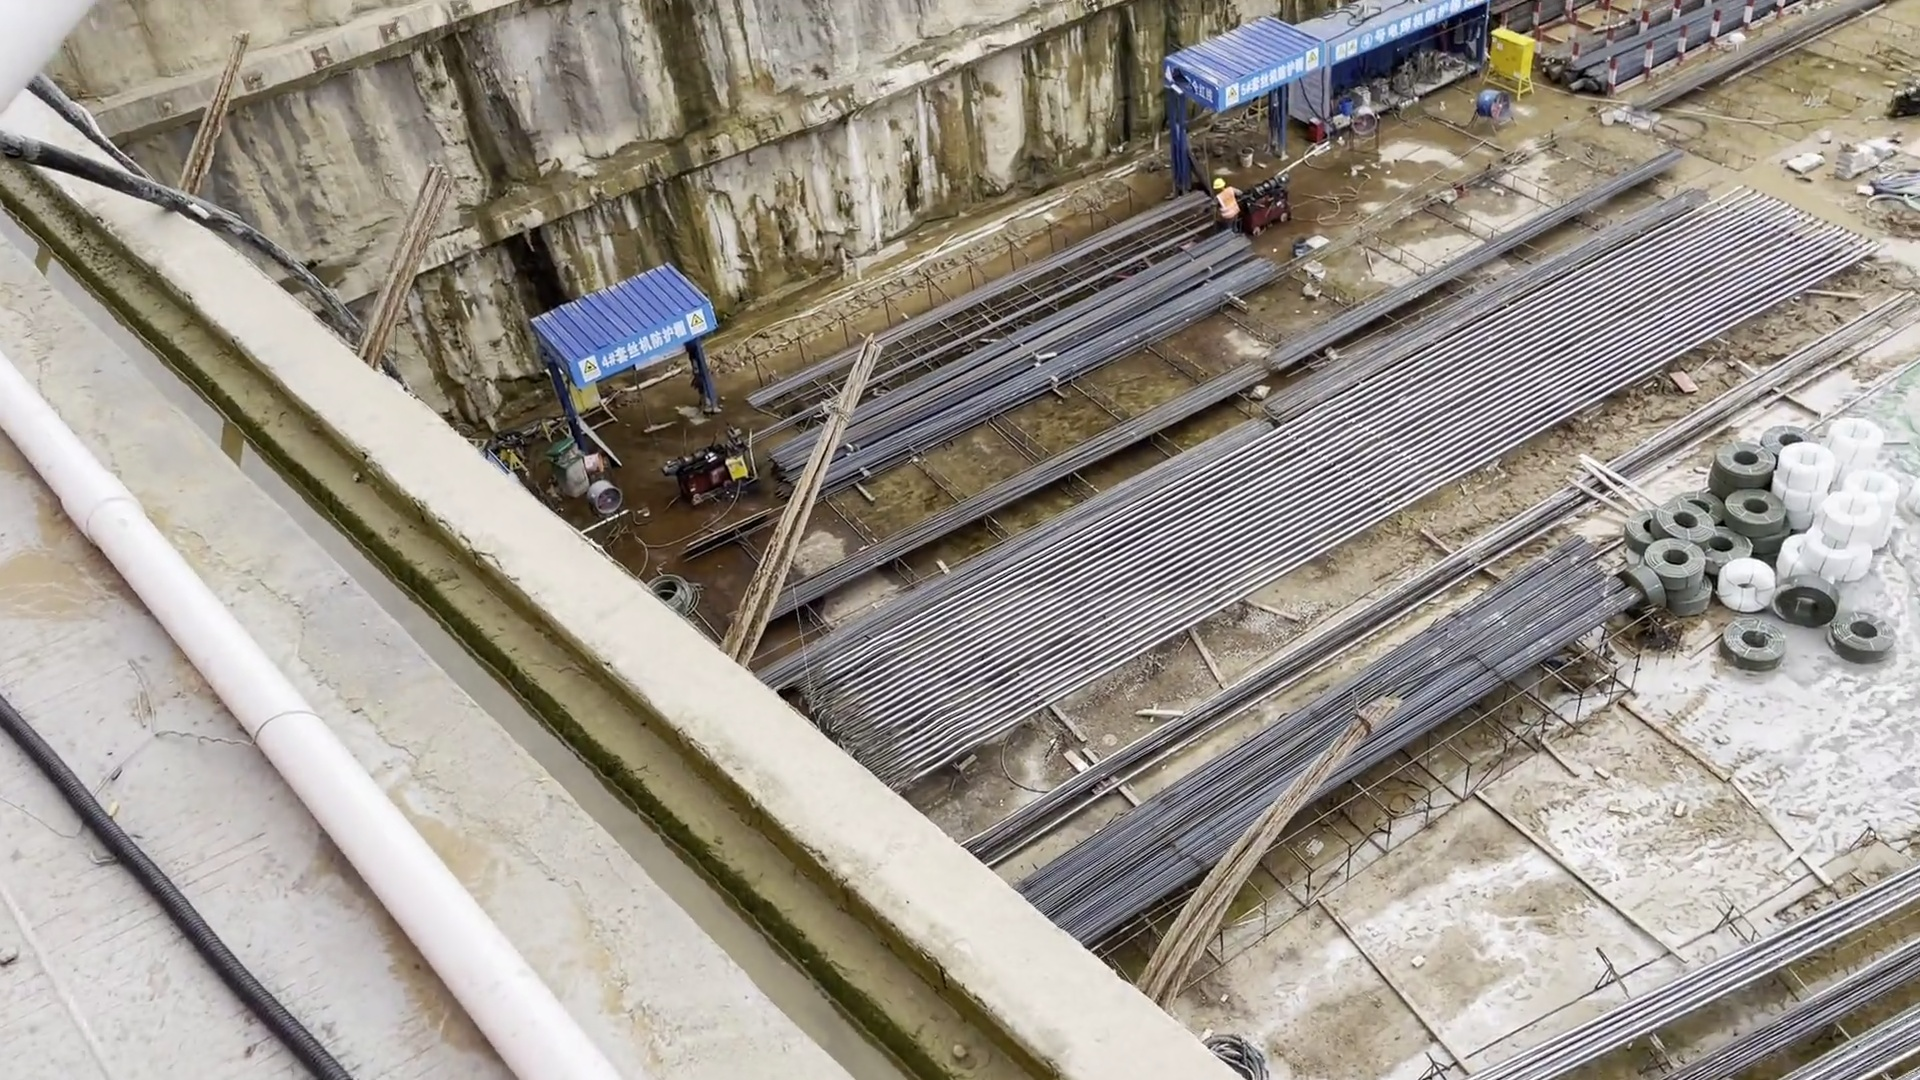cutter: (1333, 46, 1461, 136)
ebox: (1487, 23, 1537, 100)
helmet: (1212, 178, 1225, 190)
person: (1211, 177, 1245, 230)
rebar: (1025, 531, 1644, 944), (747, 186, 1277, 475), (1385, 860, 1920, 1078), (1558, 1, 1857, 122)
slogan: (580, 301, 711, 390), (1331, 1, 1470, 63), (1219, 45, 1323, 111)
vest: (1216, 188, 1239, 218)
